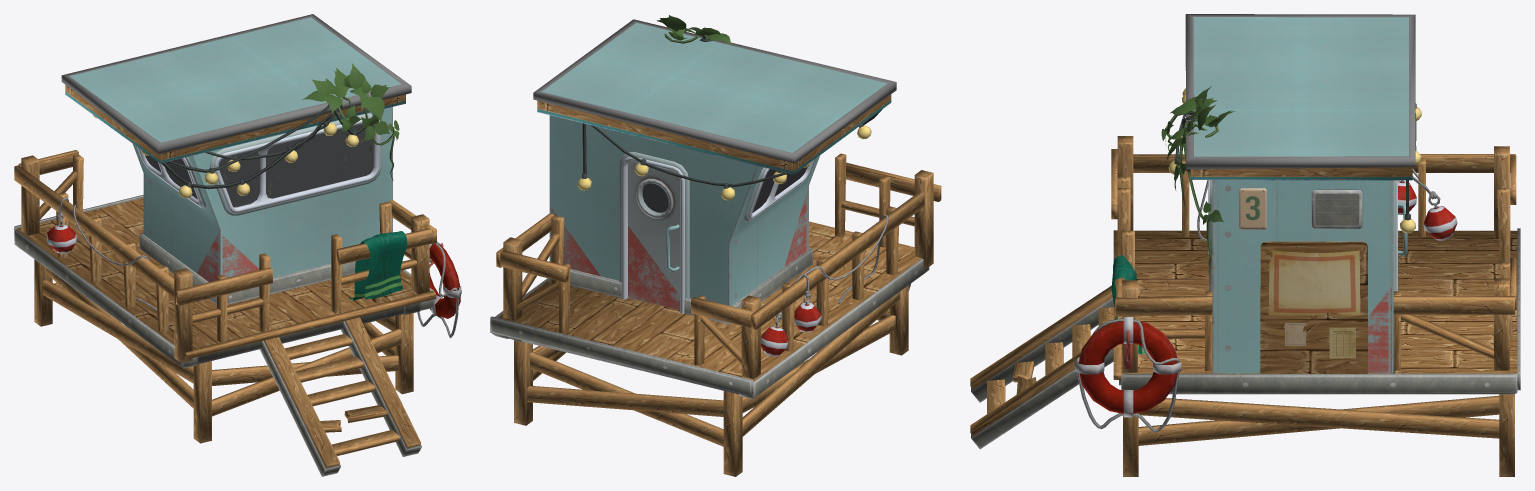
Rendered from lifeguard.obj.
3 views of the same model, side by side, from view 1: azimuth 30°, elevation 25°; view 2: azimuth 150°, elevation 25°; view 3: azimuth 270°, elevation 25° (orthographic). The views are drawn at different scales.
Parts seen in each view (by area): view 1: Object_2, Object_3; view 2: Object_3, Object_2; view 3: Object_3, Object_2.
Boxes of the visible parts, bbox=[...] form: Object_2: bbox=[61, 14, 411, 300]; Object_3: bbox=[14, 150, 461, 476]; Object_3: bbox=[490, 153, 941, 476]; Object_2: bbox=[533, 15, 896, 313]; Object_3: bbox=[970, 136, 1520, 476]; Object_2: bbox=[1111, 14, 1421, 373].
Bounding box in the file's own units: 3.88 × 4.11 × 5.62.
2 materials, 2 textured.
